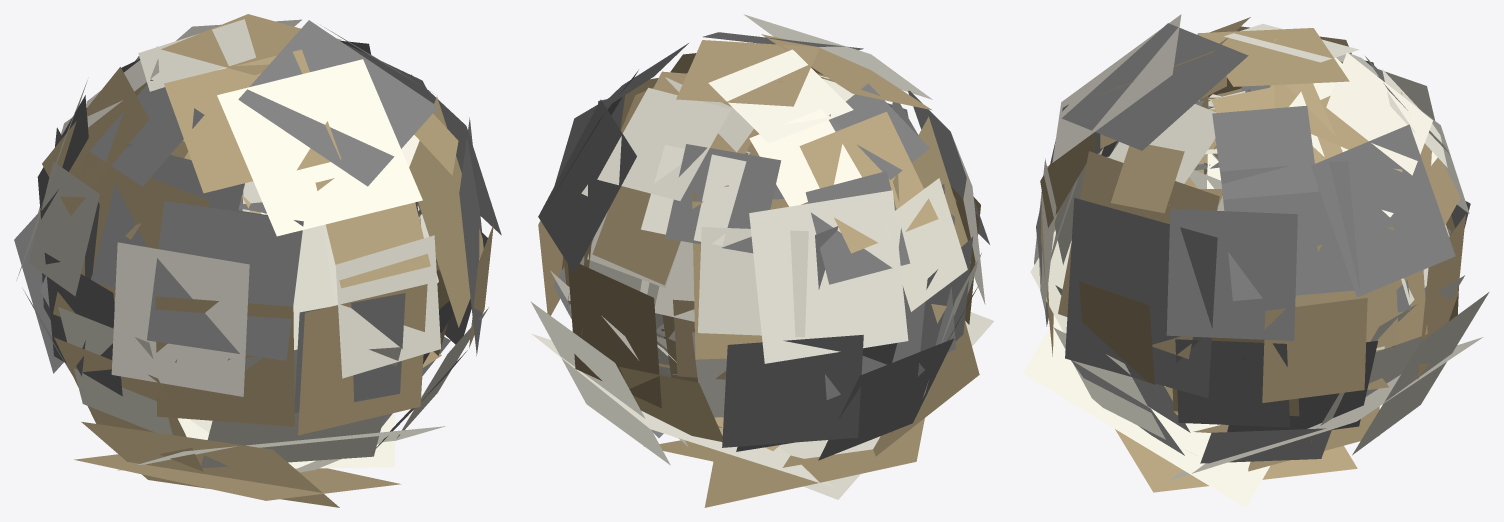
Rendered from Clouds.fbx.
3 views of the same model, side by side, from view 1: azimuth 30°, elevation 25°; view 2: azimuth 150°, elevation 25°; view 3: azimuth 270°, elevation 25° (orthographic). The views are drawn at different scales.
Parts seen in each view (by area): view 1: Plane300, Plane112, Plane216, Plane102, Plane040, Plane233, Plane041, Plane359, Plane042, Plane009, Plane230, Plane278 (+26 smaller); view 2: Plane275, Plane144, Plane372, Plane288, Plane540, Plane315, Plane029, Plane127, Plane076, Plane330, Plane278, Plane028 (+34 smaller); view 3: Plane473, Plane183, Plane540, Plane102, Plane019, Plane430, Plane177, Plane256, Plane192, Plane028, Plane288, Plane049 (+29 smaller).
Part boxes in pixels (x1,y1,x2,y2): Plane300: (217, 59, 422, 236); Plane112: (147, 201, 303, 360); Plane216: (111, 242, 249, 396); Plane102: (238, 20, 438, 186); Plane040: (298, 284, 427, 435); Plane233: (335, 235, 440, 378); Plane041: (155, 296, 294, 426); Plane359: (164, 49, 341, 193); Plane042: (81, 421, 339, 507); Plane009: (409, 97, 483, 327); Plane230: (201, 347, 401, 468); Plane278: (29, 161, 99, 296); Plane275: (749, 190, 908, 363); Plane144: (722, 334, 863, 447); Plane372: (568, 264, 661, 408); Plane288: (597, 87, 730, 200); Plane540: (538, 99, 636, 273); Plane315: (698, 227, 808, 337); Plane029: (799, 111, 938, 253); Plane127: (818, 338, 954, 460); Plane076: (704, 418, 924, 507); Plane330: (708, 49, 853, 143); Plane278: (882, 178, 967, 311); Plane028: (676, 40, 819, 106); Plane473: (1065, 198, 1217, 397); Plane183: (1166, 209, 1297, 340); Plane540: (1311, 124, 1455, 297); Plane102: (1061, 23, 1248, 150); Plane019: (1262, 298, 1367, 402); Plane430: (1220, 160, 1360, 300); Plane177: (1212, 105, 1318, 199); Plane256: (1023, 318, 1269, 507); Plane192: (1175, 339, 1289, 427); Plane028: (1197, 28, 1349, 86); Plane288: (1326, 52, 1432, 175); Plane049: (1079, 281, 1154, 384).
Size of the model in its own units: 13606 by 14230 by 13905.
